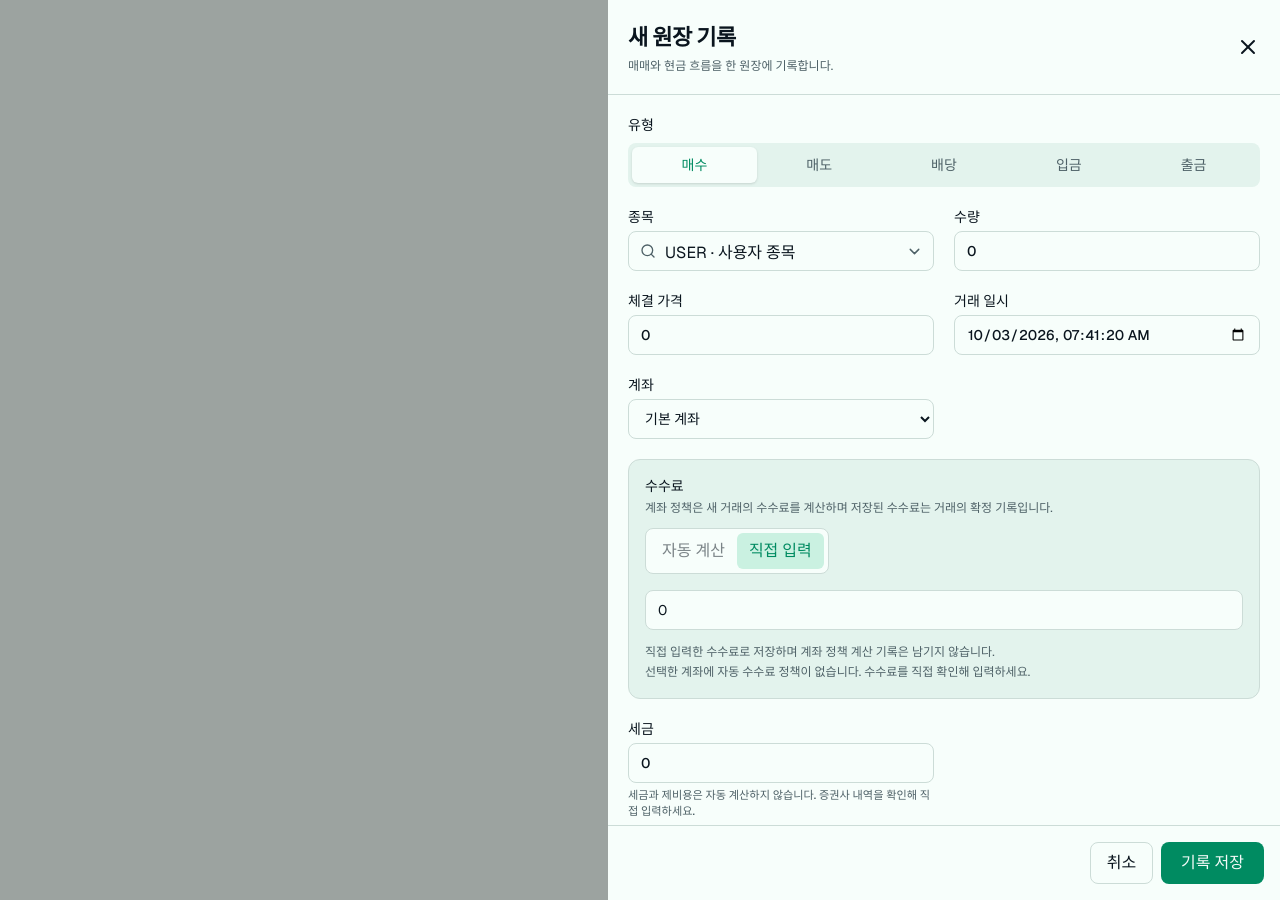
Test: TradeForm › 실제 전달된 종목은 표시하고 계획 연결 항목은 숨긴다
Focus the dropdown labelled "종목". click: (781, 251)
box: 628,231 -> 934,271
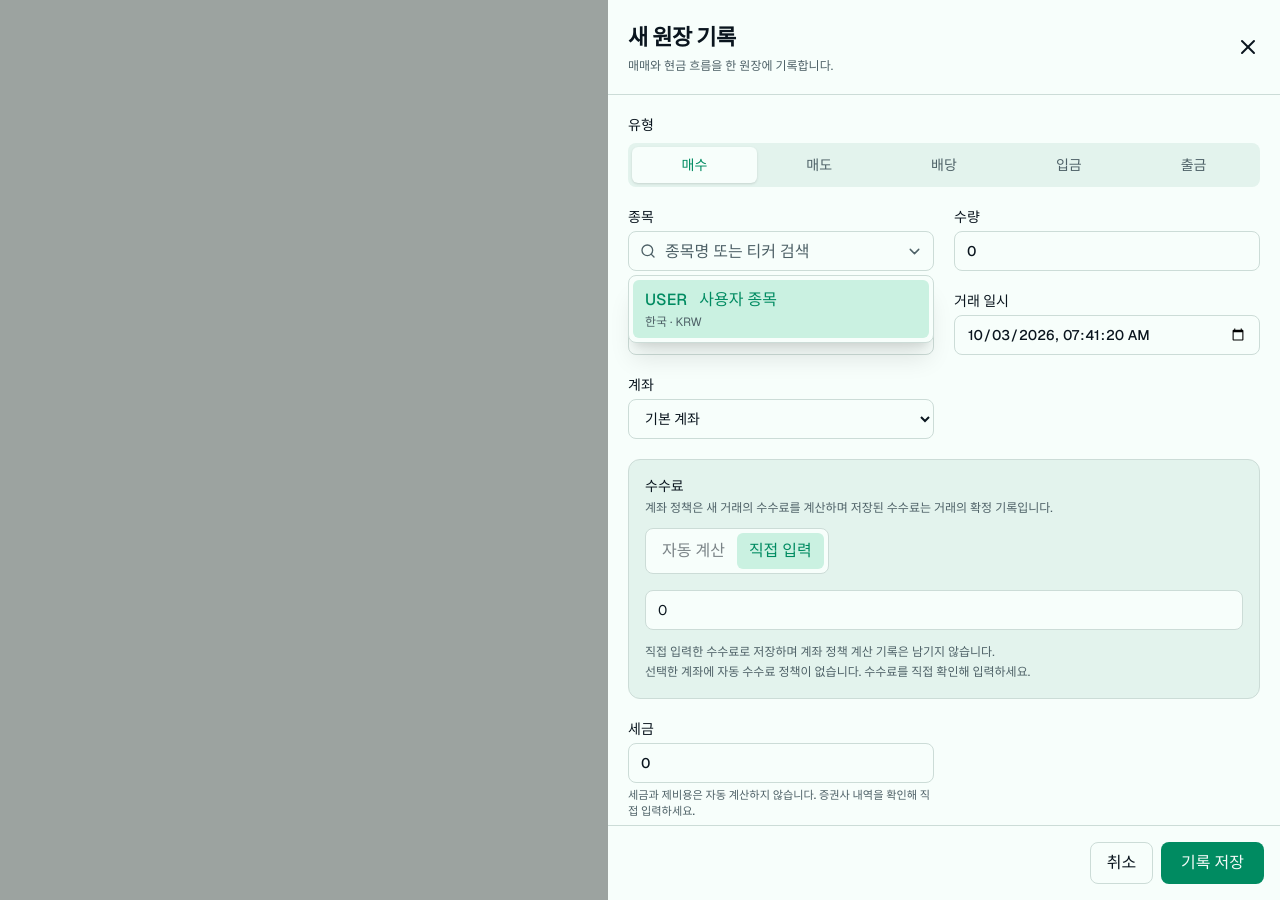
Expected: the option with aria-label "USER · 사용자 종목" is shown, 633,280 -> 929,338
